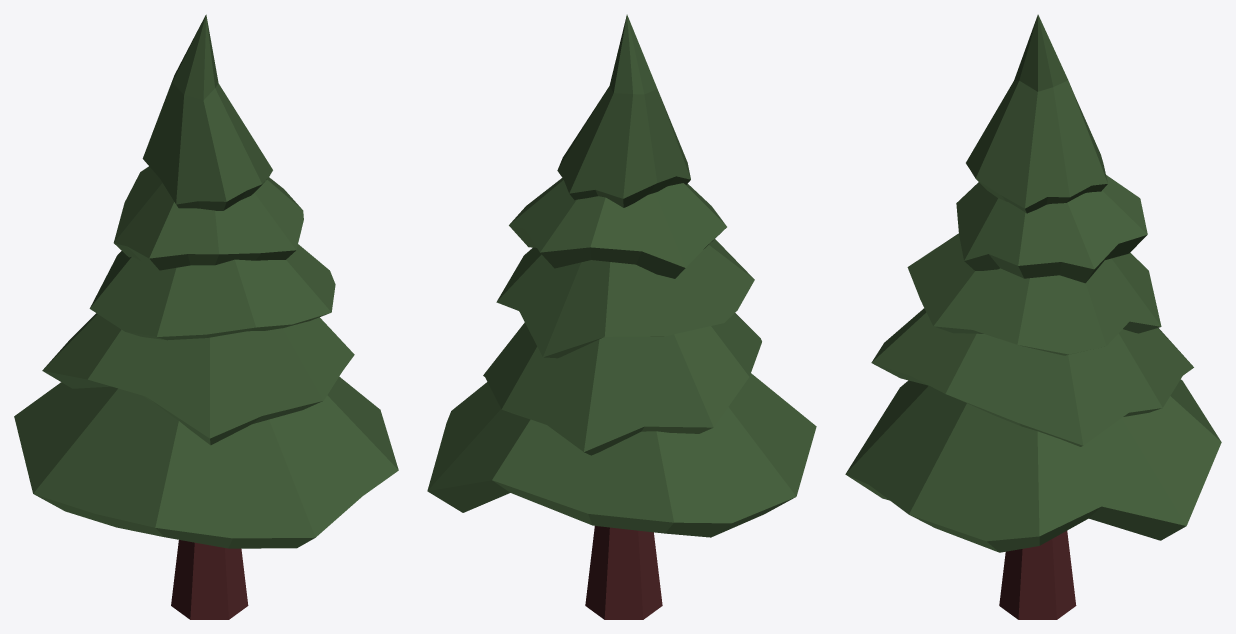
The model's file is spruce1.fbx.
The picture shows the model from 3 angles, left to right: view 1: azimuth 30°, elevation 25°; view 2: azimuth 150°, elevation 25°; view 3: azimuth 270°, elevation 25°; orthographic projection.
Parts seen in each view (by area): view 1: Cone, Cylinder; view 2: Cone, Cylinder; view 3: Cone, Cylinder.
Boxes of the visible parts, x1,y1,x2,y2 form: Cone: [14, 14, 398, 548]; Cylinder: [171, 540, 248, 619]; Cone: [427, 14, 816, 537]; Cylinder: [585, 526, 662, 619]; Cone: [845, 14, 1221, 552]; Cylinder: [999, 531, 1076, 619].
Size of the model in its own units: 308 by 504 by 291.
